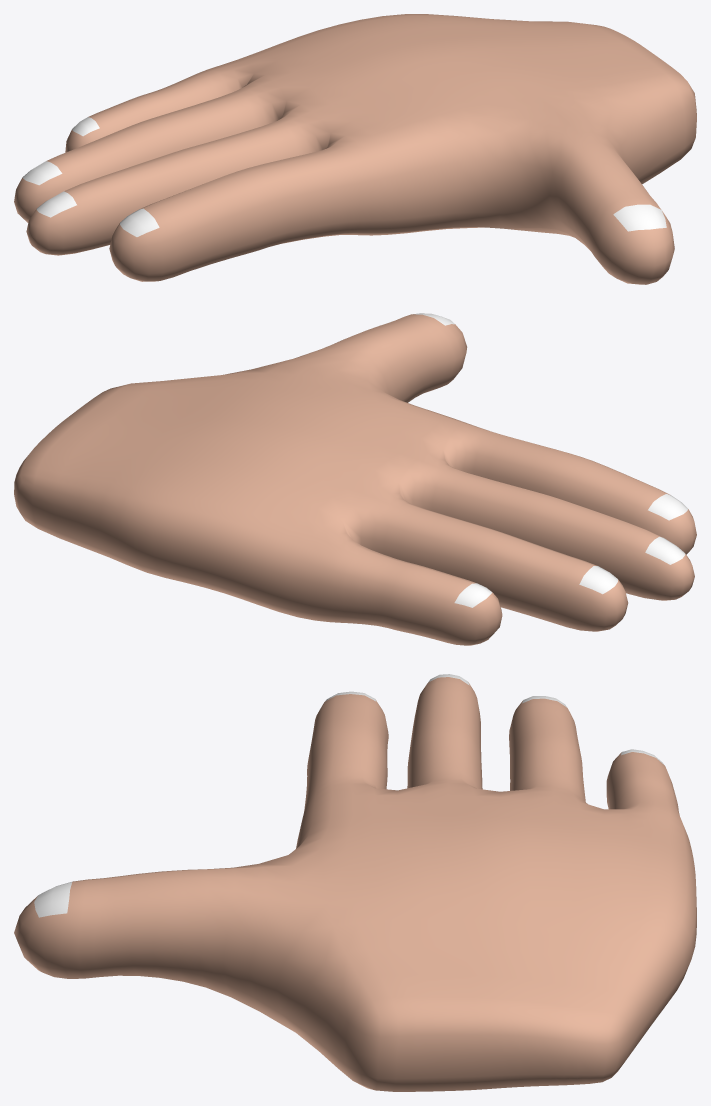
Rendered from lowPolyHand.glb.
The picture shows the model from 3 angles, top to bottom: view 1: azimuth 30°, elevation 25°; view 2: azimuth 150°, elevation 25°; view 3: azimuth 270°, elevation 25°; orthographic projection. The views are drawn at different scales.
Parts seen in each view (by area): view 1: hand; view 2: hand; view 3: hand.
Boxes of the visible parts, x1=… form: hand: x1=14, y1=14, x2=696, y2=284; hand: x1=14, y1=313, x2=696, y2=645; hand: x1=14, y1=674, x2=696, y2=1091.
Bounding box in the file's own units: 0.1392 × 0.026 × 0.1131.
3 materials, 1 textured.
